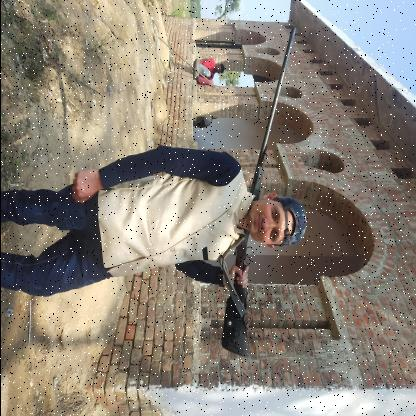rifle: (219, 25, 297, 360)
